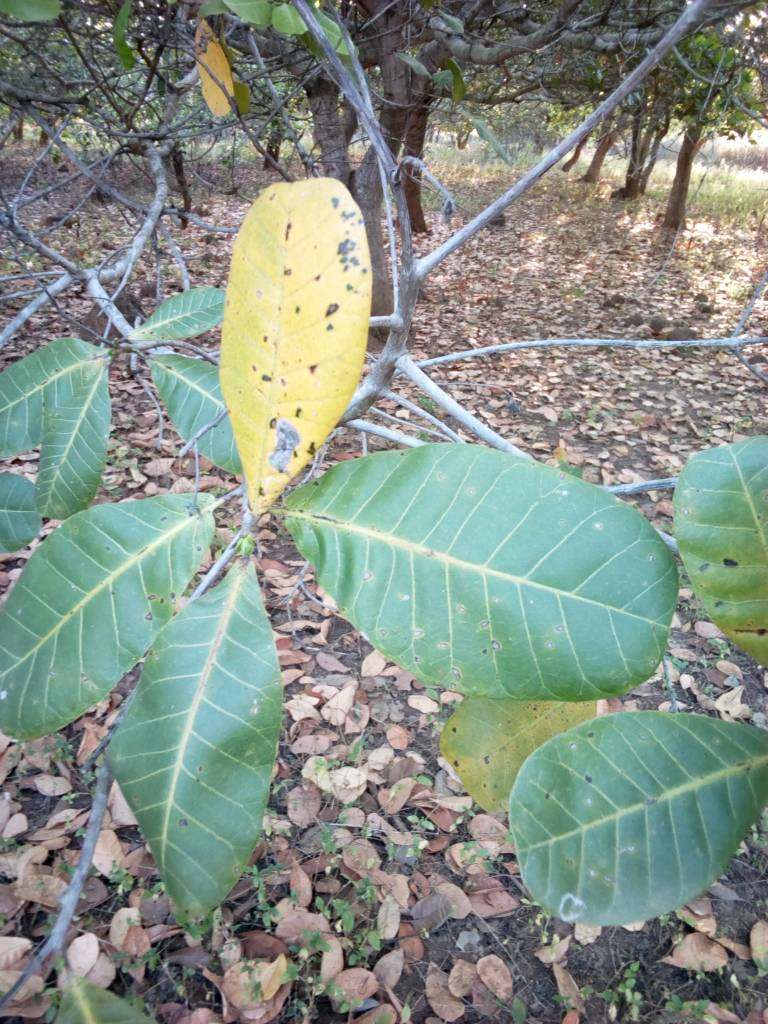Alternariose: (291, 438, 669, 696), (505, 708, 761, 924), (224, 180, 361, 510)
